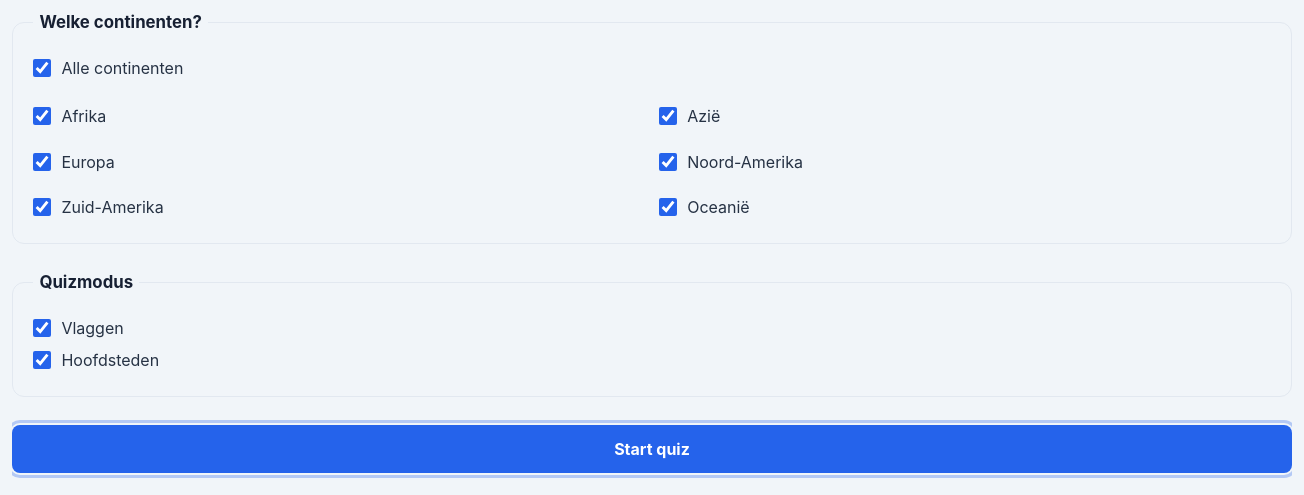
Test: QuizSetup › allows selecting individual continents
Click the checkbox labelled "Europa". click: (42, 162)
box: [33,153,51,171]
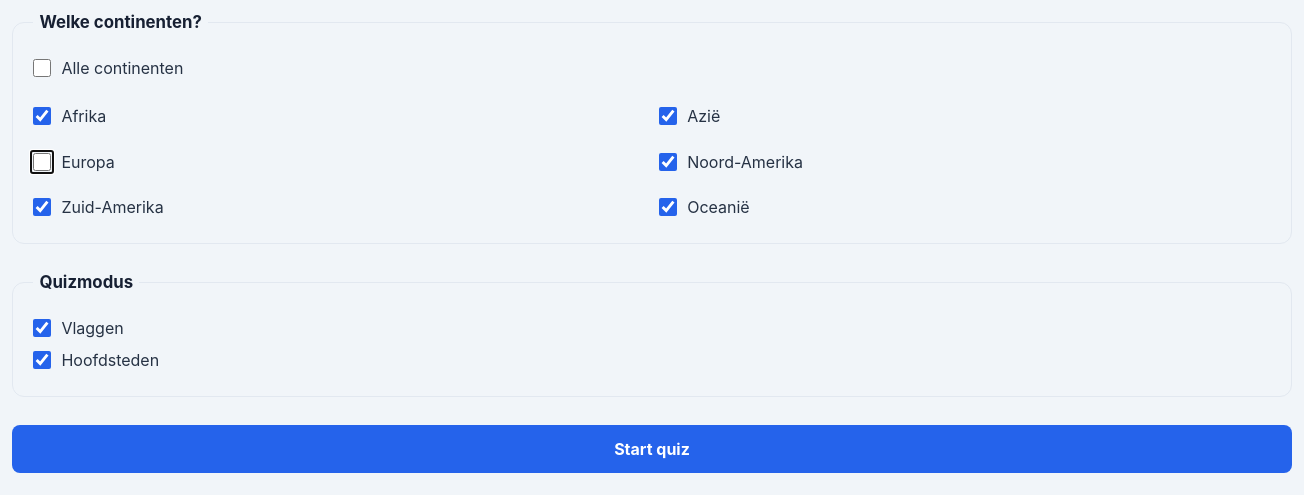
Expected: the checkbox labelled "Afrika" is checked, [33,107,51,125]
Result: the checkbox labelled "Europa" is not checked at [33,153,51,171]
Result: the checkbox labelled "Alle continenten" is not checked at [33,59,51,77]
